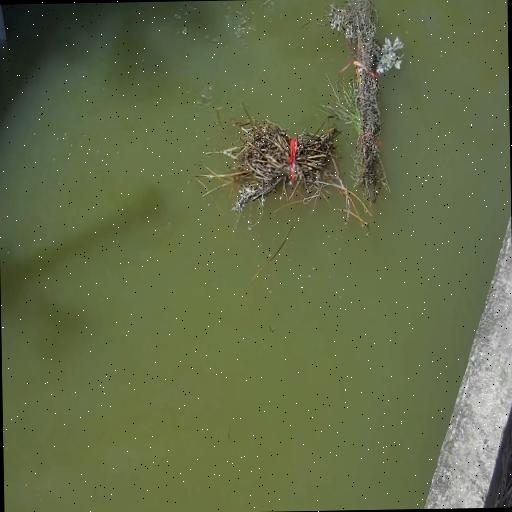twig: (331, 0, 411, 208), (225, 112, 349, 228)
